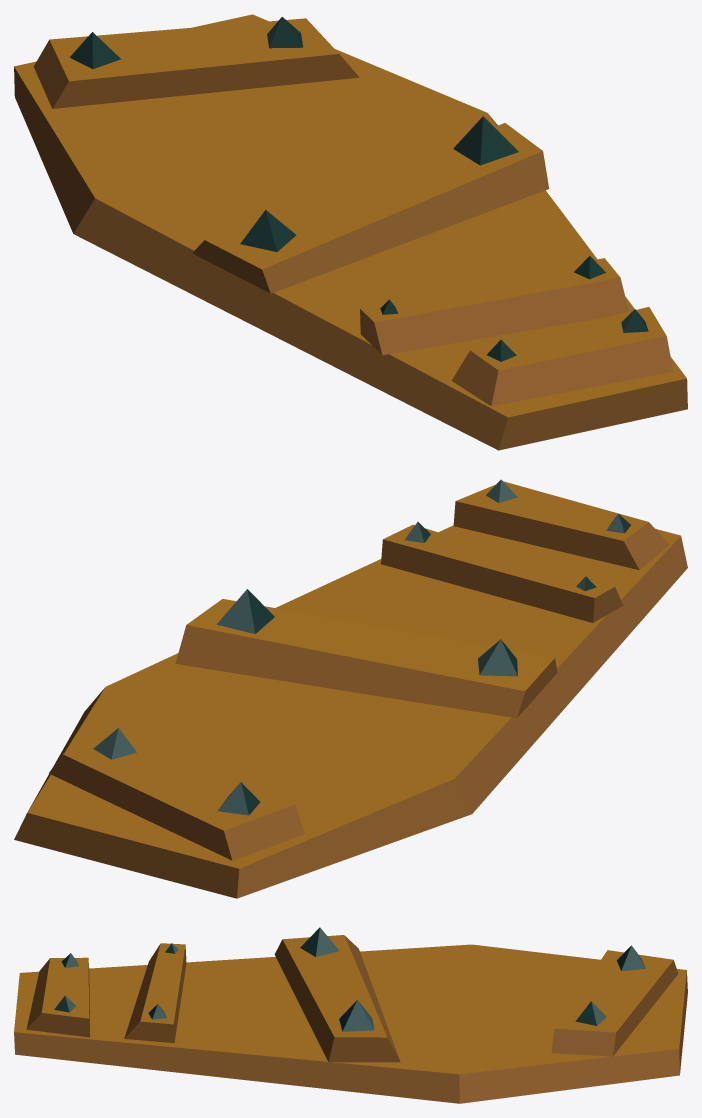
The model's file is caixao_um_tampa_001.fbx.
3 views of the same model, one above another, from view 1: azimuth 30°, elevation 25°; view 2: azimuth 150°, elevation 25°; view 3: azimuth 270°, elevation 25° (orthographic). The views are drawn at different scales.
Parts seen in each view (by area): view 1: caixao_um_tampa.001; view 2: caixao_um_tampa.001; view 3: caixao_um_tampa.001.
Boxes of the visible parts, box(x1,y1,x2,y2) form: caixao_um_tampa.001: box(14, 14, 687, 450); caixao_um_tampa.001: box(14, 479, 687, 898); caixao_um_tampa.001: box(14, 927, 687, 1103).
Size of the model in its own units: 163 by 37.3 by 324.
